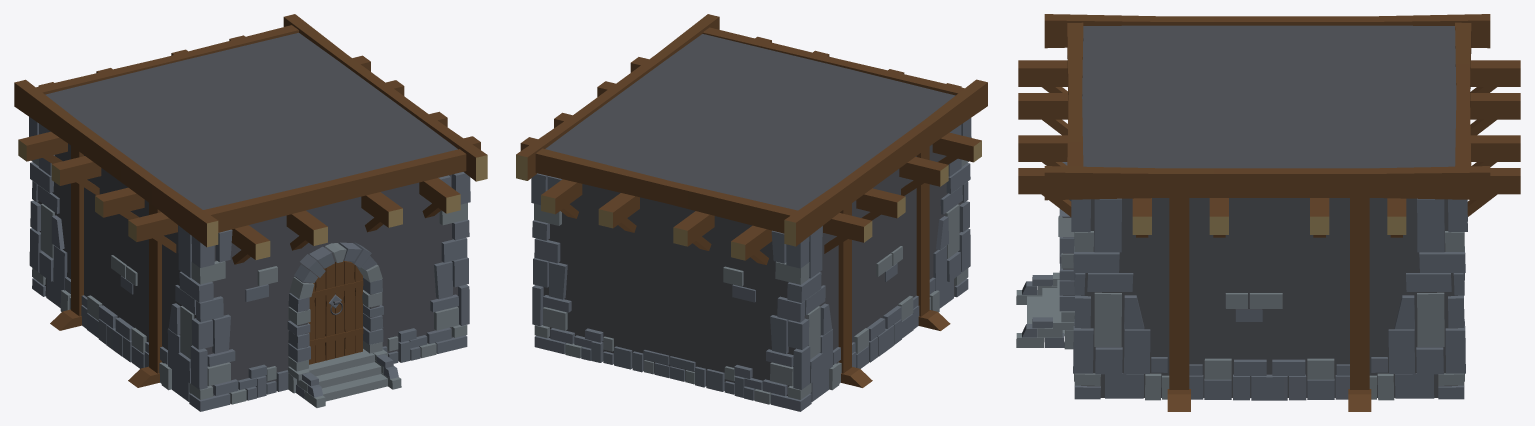
Rendered from House_4.glb.
3 renders of one model, left to right at view 1: azimuth 30°, elevation 25°; view 2: azimuth 150°, elevation 25°; view 3: azimuth 270°, elevation 25°, orthographic. The views are drawn at different scales.
Parts seen in each view (by area): view 1: House_4; view 2: House_4; view 3: House_4.
Boxes of the visible parts, x1,y1,x2,y2 form: House_4: (14,14,487,411); House_4: (516,14,987,411); House_4: (1016,14,1520,411).
Size of the model in its own units: 1.94 by 1.07 by 2.12.
